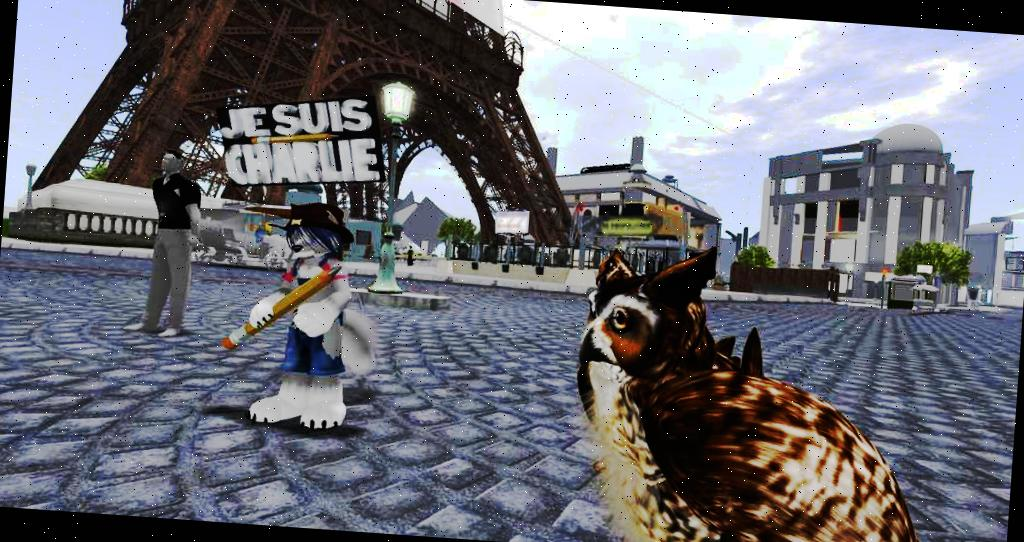Owl: (560, 245, 955, 542)
